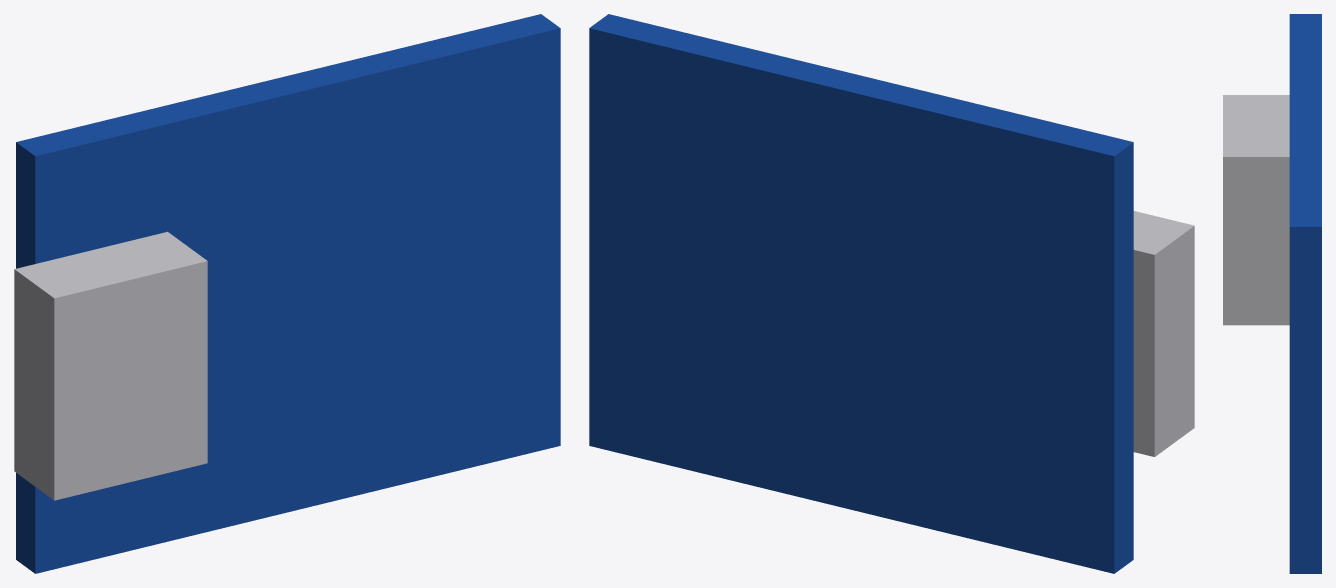
Rendered from mod-tp4056.glb.
3 renders of one model, left to right at view 1: azimuth 30°, elevation 25°; view 2: azimuth 150°, elevation 25°; view 3: azimuth 270°, elevation 25°, orthographic. The views are drawn at different scales.
Parts seen in each view (by area): view 1: PCB-POWER, MET-PORT; view 2: PCB-POWER, MET-PORT; view 3: PCB-POWER, MET-PORT.
Boxes of the visible parts, left/top/right/bottom form: PCB-POWER: left=16, top=14, right=560, bottom=573; MET-PORT: left=14, top=231, right=207, bottom=500; PCB-POWER: left=589, top=14, right=1133, bottom=573; MET-PORT: left=1133, top=211, right=1194, bottom=456; PCB-POWER: left=1289, top=14, right=1321, bottom=573; MET-PORT: left=1223, top=95, right=1289, bottom=325.
Bounding box in the file's own units: 26 × 19 × 4.9.
